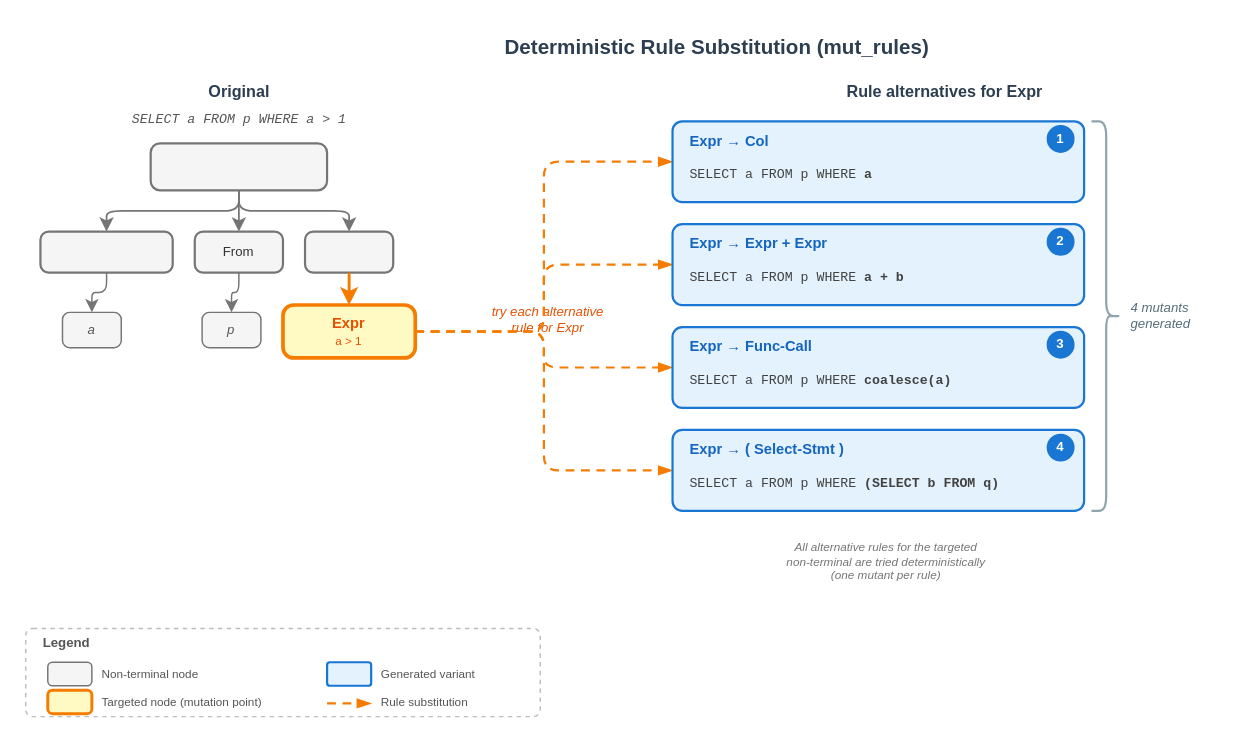
This 1257x742 diagram has some shape labels left out. The shapes that lost their labels are listed below. From the top down, each one's box as (x1, y1, x2, y2) in pixels, then its label:
(149, 142, 328, 191): Select-Stmt
(39, 230, 173, 273): Result-Col
(303, 230, 394, 273): Where
